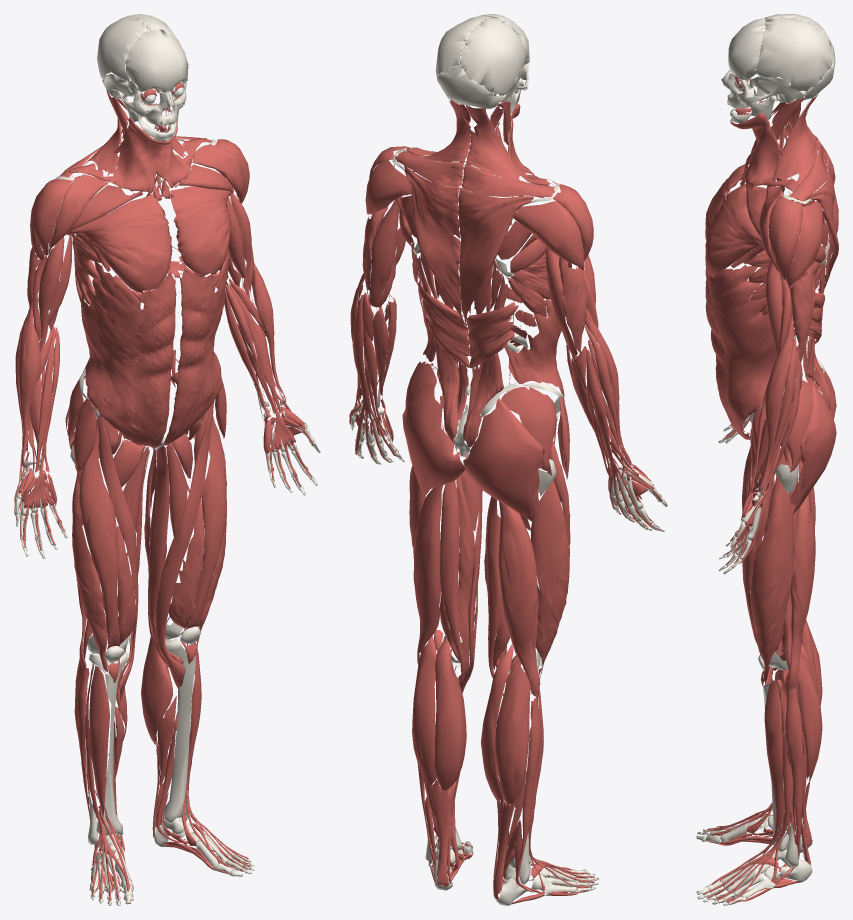
The model's file is body.glb.
The picture shows the model from 3 angles, left to right: view 1: azimuth 30°, elevation 25°; view 2: azimuth 150°, elevation 25°; view 3: azimuth 270°, elevation 25°; orthographic projection. The views are drawn at different scales.
Parts seen in each view (by area): view 1: body_muscles, body_skeleton; view 2: body_muscles, body_skeleton; view 3: body_muscles, body_skeleton.
Part boxes in pixels (<box>): body_muscles: <box>14,82,312,901</box>; body_skeleton: <box>15,14,320,905</box>; body_muscles: <box>349,67,662,904</box>; body_skeleton: <box>350,14,667,905</box>; body_muscles: <box>703,76,838,904</box>; body_skeleton: <box>696,14,835,905</box>.
Bounding box in the file's own units: 0.7581 × 2 × 0.3045.
